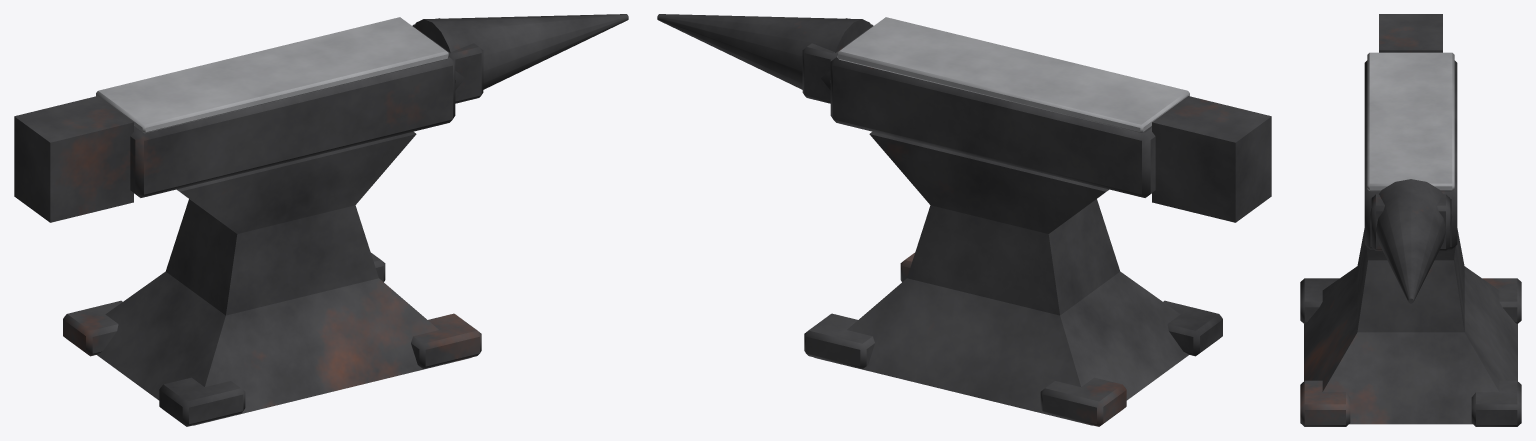
Rendered from SM_Anvil.glb.
3 renders of one model, left to right at view 1: azimuth 30°, elevation 25°; view 2: azimuth 150°, elevation 25°; view 3: azimuth 270°, elevation 25°, orthographic. The views are drawn at different scales.
Parts seen in each view (by area): view 1: SM_Anvil; view 2: SM_Anvil; view 3: SM_Anvil.
Boxes of the visible parts, x1,y1,x2,y2 form: SM_Anvil: [14, 14, 628, 426]; SM_Anvil: [657, 14, 1271, 426]; SM_Anvil: [1300, 14, 1521, 426].
Bounding box in the file's own units: 0.855 × 0.393 × 0.31.
Materials: 1 (1 with a texture image).
